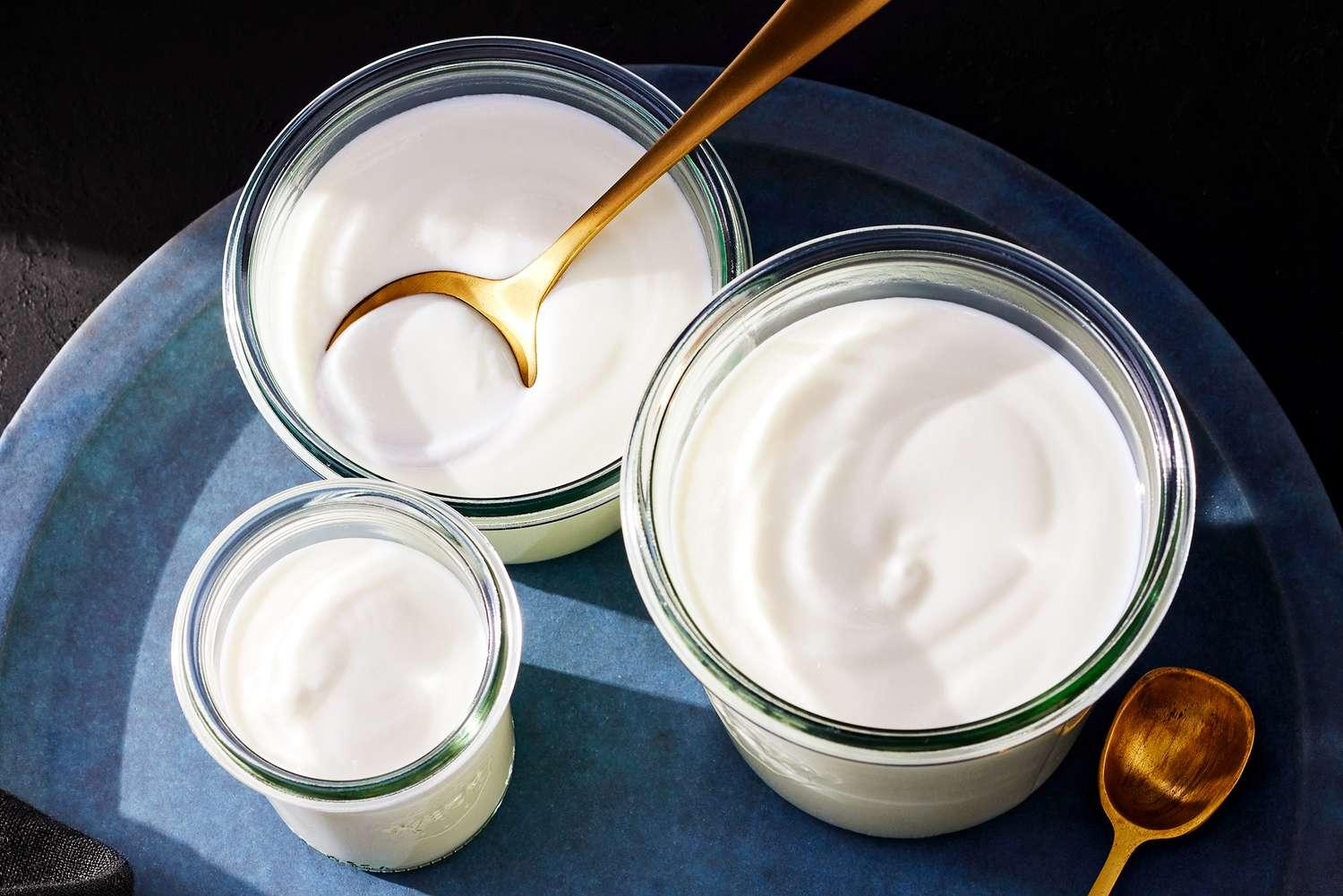yogurt: (664, 292, 1156, 746), (251, 57, 654, 484), (201, 517, 492, 787)
